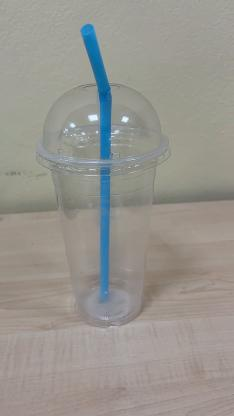Plastic Cup: (36, 84, 172, 324)
